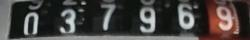digits: (100, 2, 116, 29), (58, 8, 76, 32), (177, 3, 194, 28), (139, 6, 155, 31), (22, 12, 39, 34), (216, 6, 232, 29)
